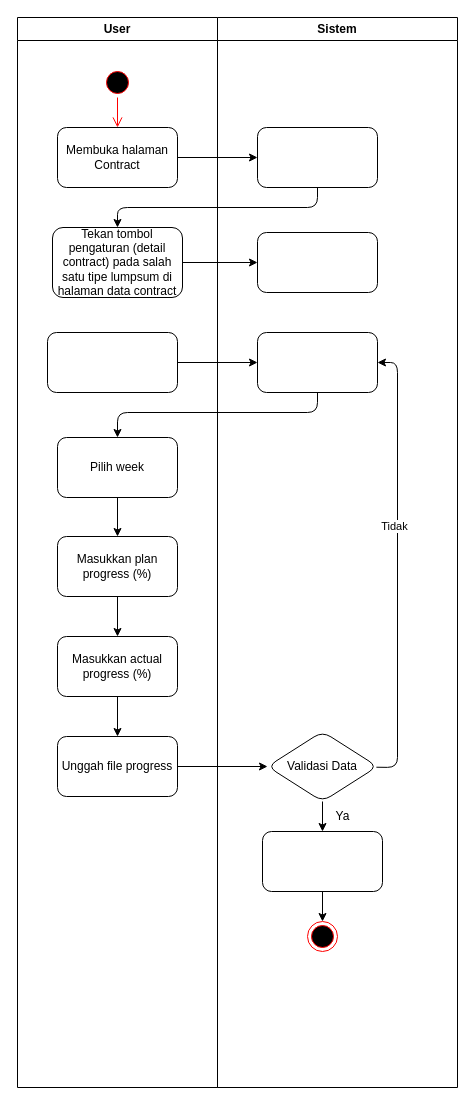
Image size: 475x1105. Some labels were removed from this diagram. The shapes that lost their labels are listed below. From the top down, each one's centre as x and y in pixels, then its label:
At (x=317, y=157): "Menampilkan halaman Contract".
At (x=317, y=262): "Menampilkan detail contract beserta progress pekerjaan-nya".
At (x=112, y=362): "Memilih tombol tambah pada fitur progress pekerjaan di halaman detail contract".
At (x=317, y=362): "Menampilkan formulir tambah data progress pekerjaan".
At (x=322, y=861): "Menyimpan data progress pekerjaan".
